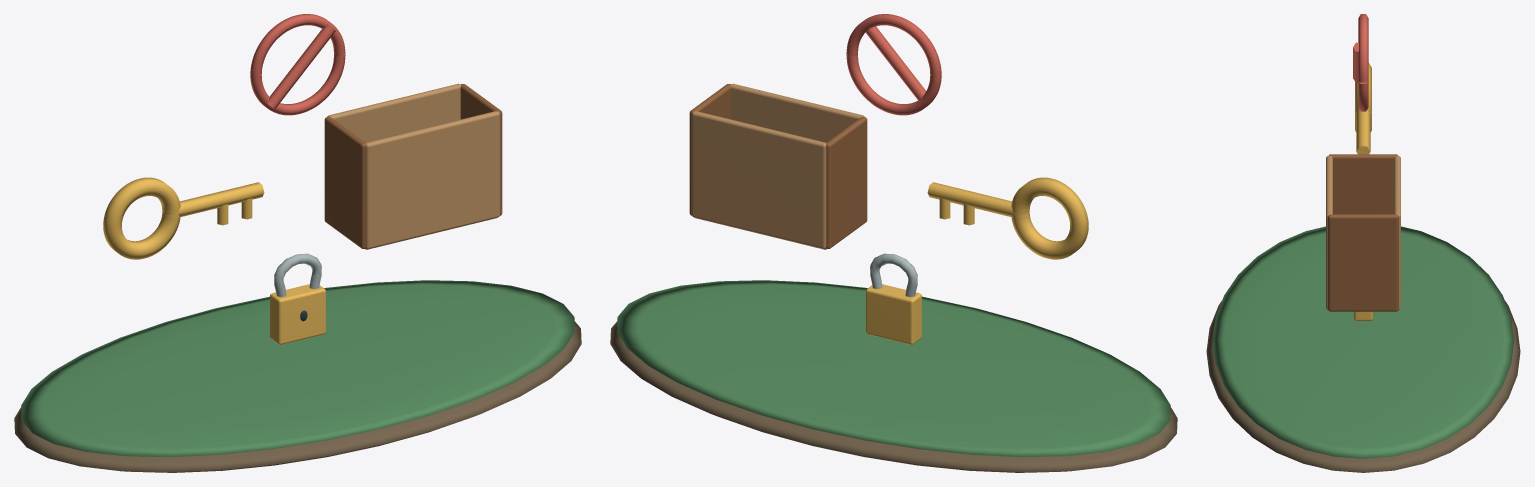
File: complete-first-mistaken-tool-purpose.glb
3 views of the same model, side by side, from view 1: azimuth 30°, elevation 25°; view 2: azimuth 150°, elevation 25°; view 3: azimuth 270°, elevation 25° (orthographic). The views are drawn at different scales.
Visible parts, largest first — view 1: complete-first-mistaken-tool-purpose_surface_01, complete-first-mistaken-tool-purpose_surface_03, complete-first-mistaken-tool-purpose_surface_00, complete-first-mistaken-tool-purpose_surface_02, complete-first-mistaken-tool-purpose_surface_04, complete-first-mistaken-tool-purpose_surface_07, complete-first-mistaken-tool-purpose_surface_05; view 2: complete-first-mistaken-tool-purpose_surface_01, complete-first-mistaken-tool-purpose_surface_03, complete-first-mistaken-tool-purpose_surface_00, complete-first-mistaken-tool-purpose_surface_02, complete-first-mistaken-tool-purpose_surface_04, complete-first-mistaken-tool-purpose_surface_07, complete-first-mistaken-tool-purpose_surface_05; view 3: complete-first-mistaken-tool-purpose_surface_01, complete-first-mistaken-tool-purpose_surface_04, complete-first-mistaken-tool-purpose_surface_00, complete-first-mistaken-tool-purpose_surface_07, complete-first-mistaken-tool-purpose_surface_03, complete-first-mistaken-tool-purpose_surface_02.
Boxes of the visible parts, x1,y1,x2,y2 form: complete-first-mistaken-tool-purpose_surface_01: (21, 280, 574, 457); complete-first-mistaken-tool-purpose_surface_03: (327, 83, 500, 248); complete-first-mistaken-tool-purpose_surface_00: (14, 321, 581, 472); complete-first-mistaken-tool-purpose_surface_02: (103, 177, 325, 344); complete-first-mistaken-tool-purpose_surface_04: (324, 84, 502, 249); complete-first-mistaken-tool-purpose_surface_07: (250, 14, 345, 115); complete-first-mistaken-tool-purpose_surface_05: (274, 253, 321, 297); complete-first-mistaken-tool-purpose_surface_01: (617, 280, 1170, 457); complete-first-mistaken-tool-purpose_surface_03: (691, 83, 864, 248); complete-first-mistaken-tool-purpose_surface_00: (610, 321, 1177, 472); complete-first-mistaken-tool-purpose_surface_02: (866, 177, 1088, 344); complete-first-mistaken-tool-purpose_surface_04: (689, 84, 867, 249); complete-first-mistaken-tool-purpose_surface_07: (846, 14, 941, 115); complete-first-mistaken-tool-purpose_surface_05: (870, 253, 917, 297); complete-first-mistaken-tool-purpose_surface_01: (1212, 226, 1514, 458); complete-first-mistaken-tool-purpose_surface_04: (1328, 154, 1398, 311); complete-first-mistaken-tool-purpose_surface_00: (1206, 301, 1520, 472); complete-first-mistaken-tool-purpose_surface_07: (1353, 14, 1368, 111); complete-first-mistaken-tool-purpose_surface_03: (1326, 155, 1400, 309); complete-first-mistaken-tool-purpose_surface_02: (1354, 62, 1372, 320).
Size of the model in its own units: 4.56 by 3.06 by 2.5.
